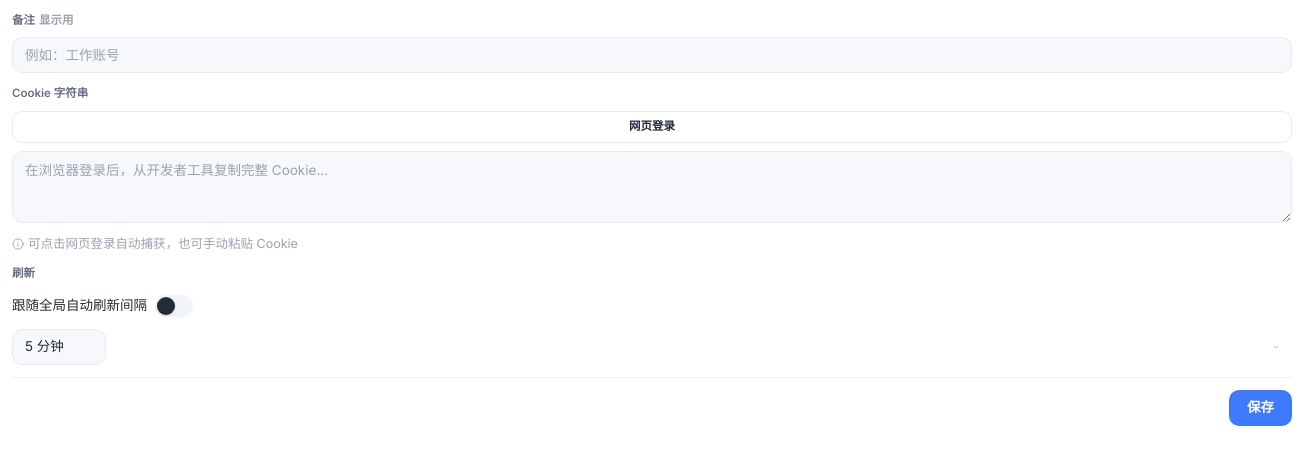
it: SettingsForm session editing (t157) › shows Chinese conflict when cookieLogin rejects CONFLICT (t282)
Click the button with test id "session-login-SESSION_COOKIE" at (652, 126), box 12,110 -> 1292,142
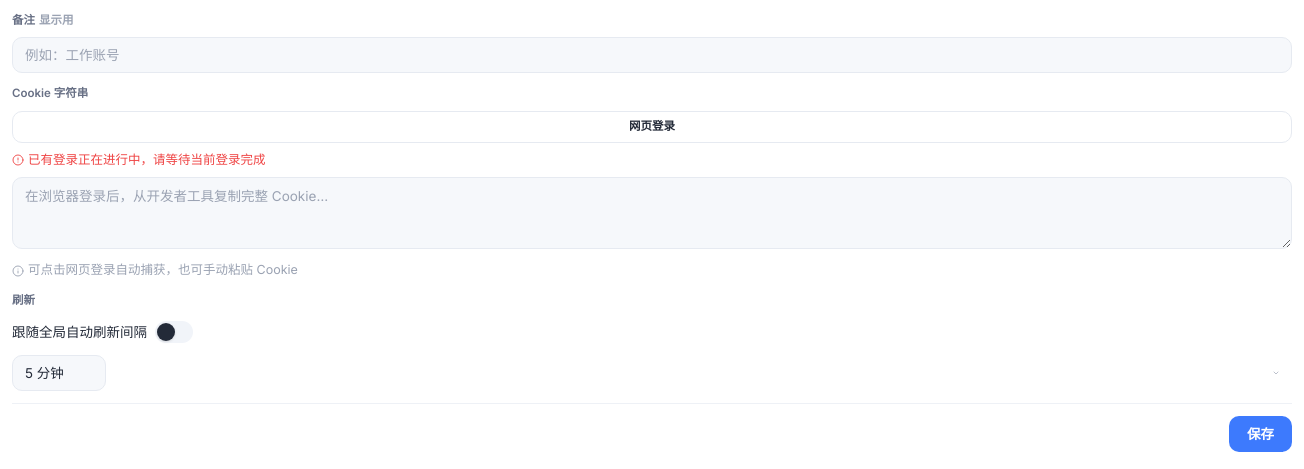
Expected: the message reads "已有登录正在进行中，请等待当前登录完成", 28,152 -> 266,166
